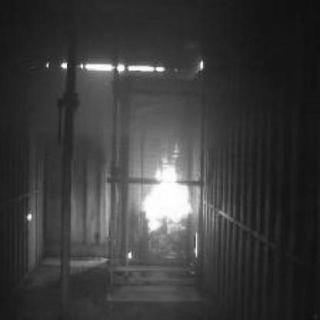Fire: (141, 150, 193, 230)
other: (43, 57, 209, 75), (124, 248, 134, 260), (23, 210, 33, 222)
